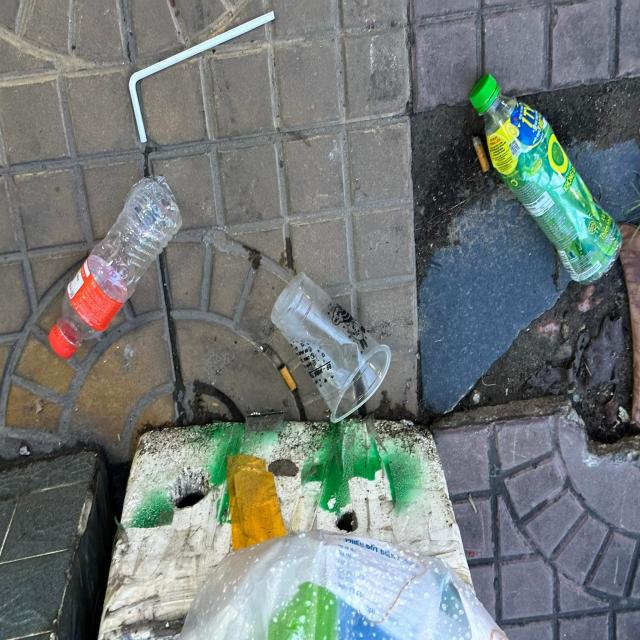bottle: (469, 73, 622, 283), (48, 178, 183, 360)
drinking straw: (129, 10, 275, 143)
plastic glass: (270, 272, 392, 424)
trash bag: (179, 529, 509, 640)
